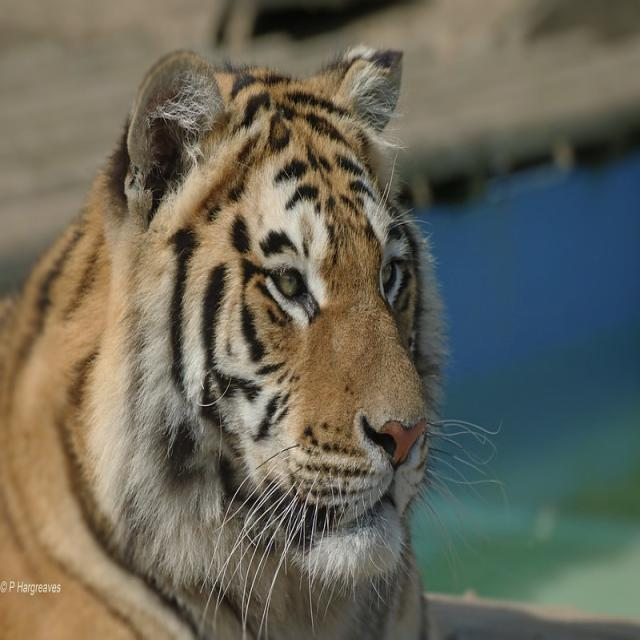Tiger: (0, 37, 458, 639)
